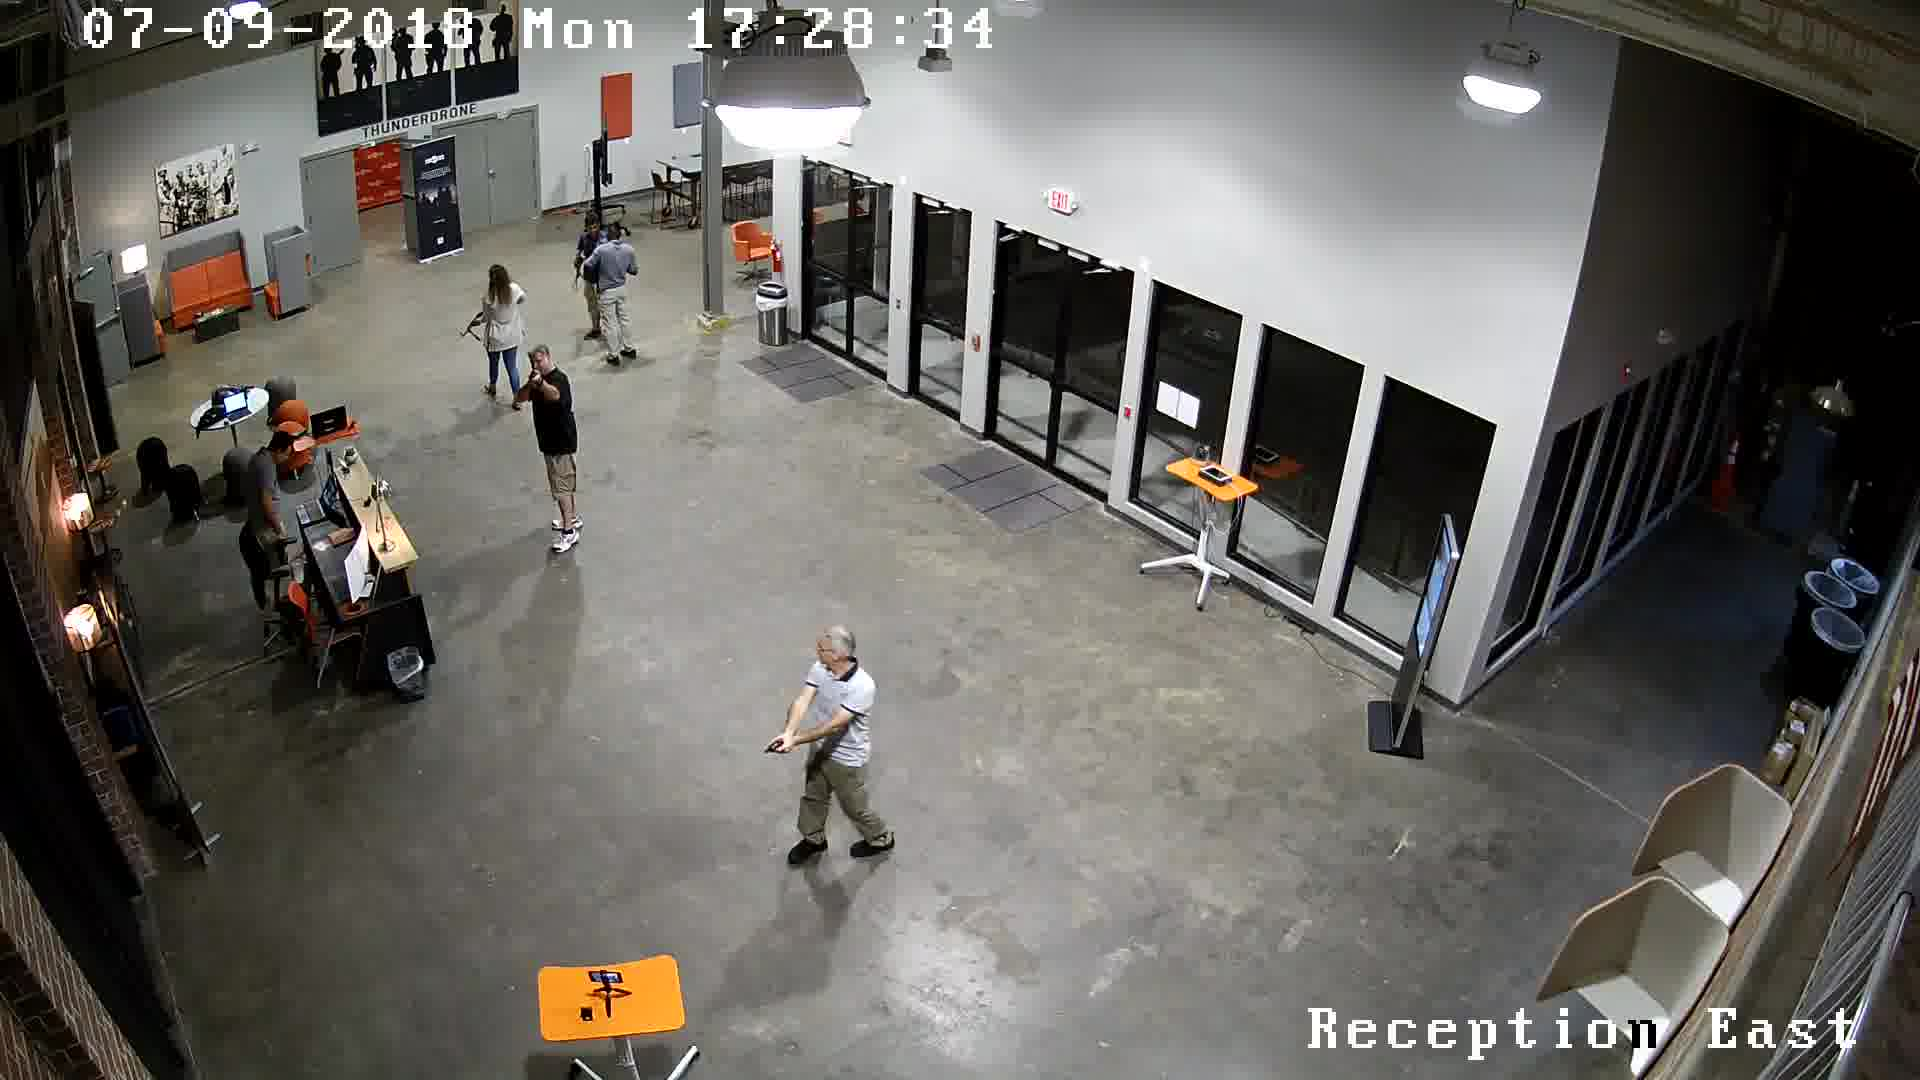pistol: (754, 725, 796, 769)
